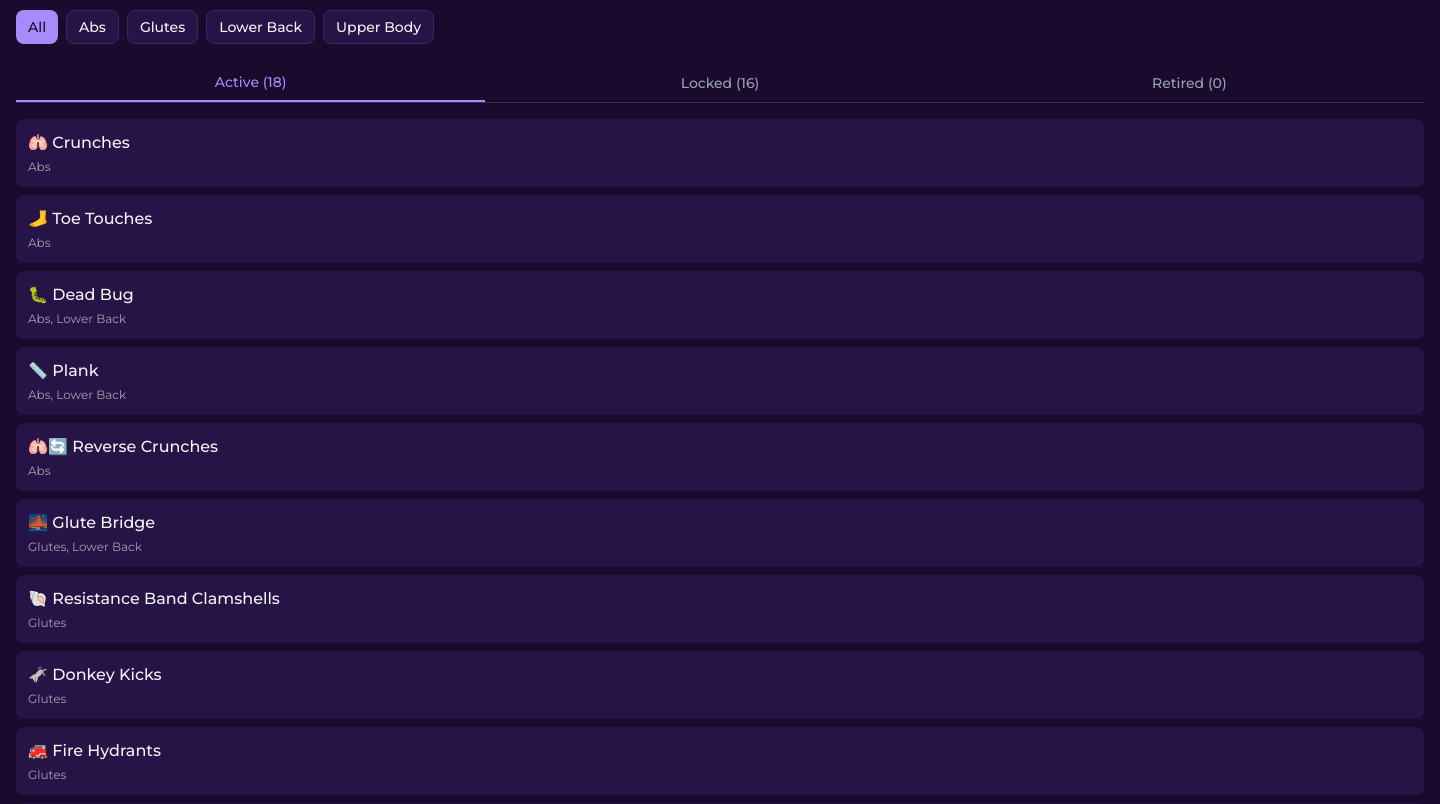
ExerciseStatus muscle-group filter › shows spinal-extension exercises when the Lower Back filter is active
# Wait for the async status load to finish, then apply the filter.
Click the button "Lower Back" at (261,27), box top-left (206, 10), bottom-right (315, 44)
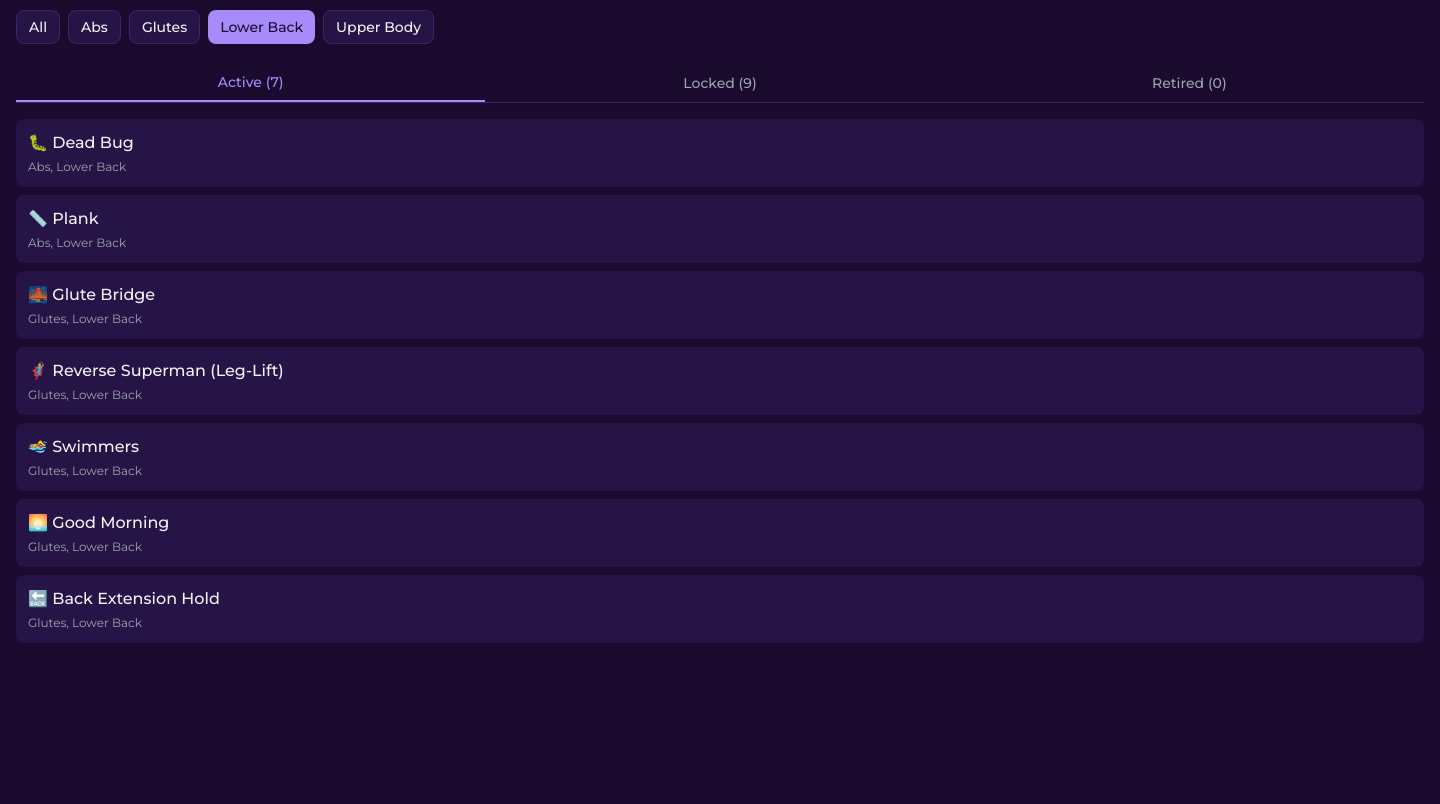
Expected: the text "🔙 Back Extension Hold" is shown, top-left (28, 589), bottom-right (220, 608)
Expected: the text "Crunches" is gone
Click the button "Locked (9)" at (720,83), box top-left (485, 64), bottom-right (955, 102)
(page scrolled)
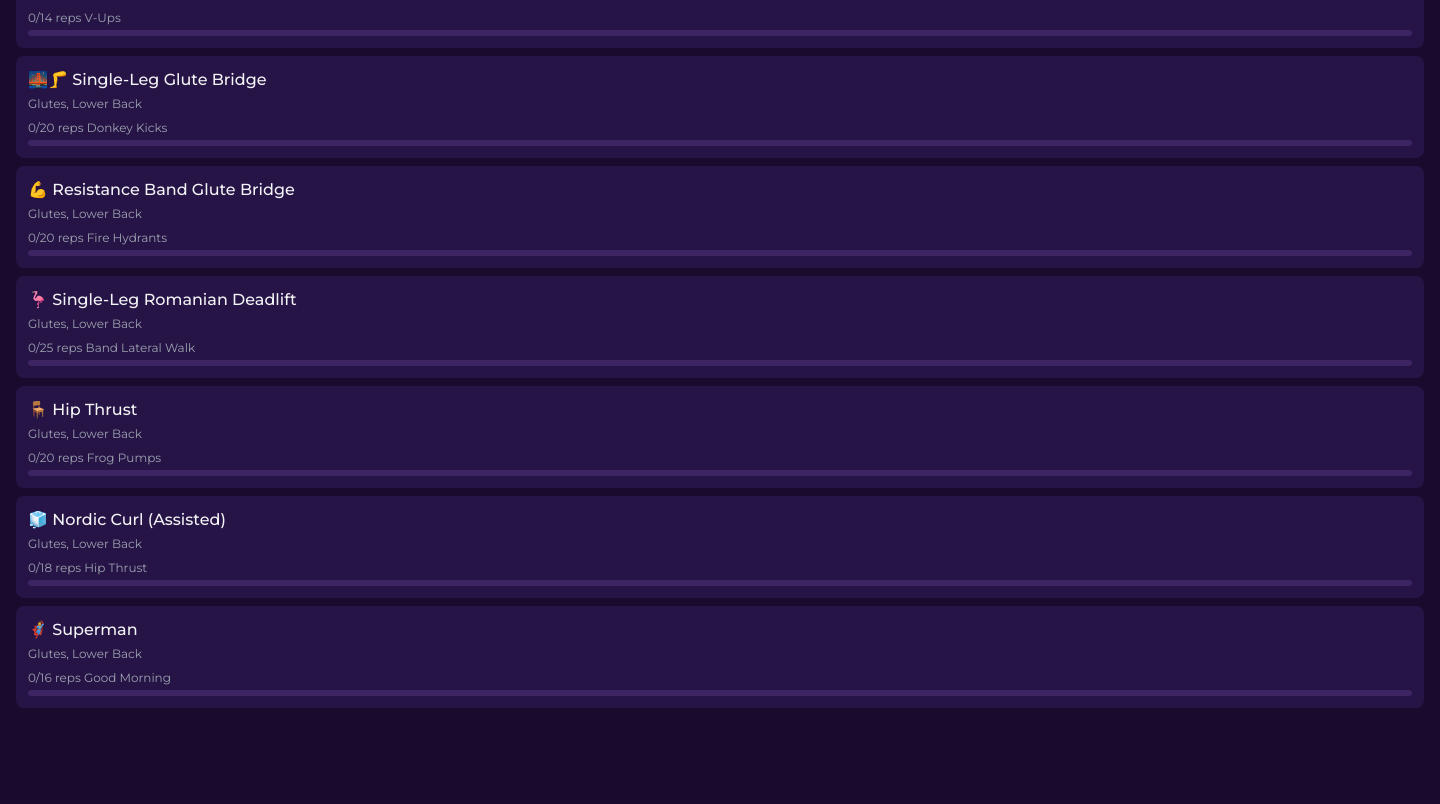
Expected: the text "🦸 Superman" is shown, top-left (28, 620), bottom-right (138, 639)
